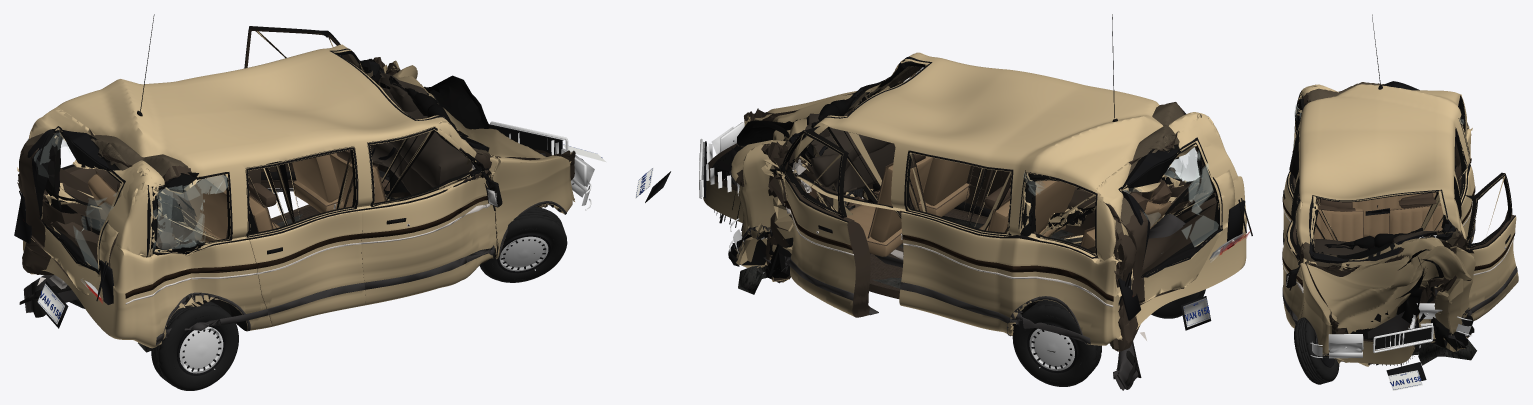
File: minivan86_front_corner_d3_lod1.glb
3 views of the same model, side by side, from view 1: azimuth 30°, elevation 25°; view 2: azimuth 150°, elevation 25°; view 3: azimuth 270°, elevation 25° (orthographic). The views are drawn at different scales.
Visible parts, largest first — view 1: Body, Interior, Door_FR, Door_SR, Liftgate, Wheel_RR_mesh, Glass, Wheel_FR_mesh, Trim, Ends, Glass_Liftgate, Hood (+4 smaller); view 2: Body, Interior, Door_FL, Trim, Liftgate, Wheel_RL_mesh, Ends, Glass_Liftgate, Hood, Glass, Trim_FL, Underbody (+3 smaller); view 3: Body, Hood, Interior, Door_FL, Ends, Glass, Trim, Wheel_FR_mesh, Door_FR, Engine, Trim_FL, Underbody (+3 smaller).
Part boxes in pixels (bbox=[...]): Body: bbox=[17, 44, 575, 348]; Interior: bbox=[88, 72, 472, 249]; Door_FR: bbox=[361, 126, 497, 305]; Door_SR: bbox=[245, 146, 365, 326]; Liftgate: bbox=[19, 107, 158, 295]; Wheel_RR_mesh: bbox=[151, 301, 238, 390]; Glass: bbox=[142, 48, 489, 257]; Wheel_FR_mesh: bbox=[479, 207, 567, 282]; Trim: bbox=[125, 14, 566, 346]; Ends: bbox=[14, 121, 606, 328]; Glass_Liftgate: bbox=[27, 126, 125, 274]; Hood: bbox=[387, 65, 547, 207]; Body: bbox=[703, 52, 1246, 351]; Interior: bbox=[798, 73, 1171, 256]; Door_FL: bbox=[775, 126, 870, 317]; Trim: bbox=[719, 14, 1185, 344]; Liftgate: bbox=[1095, 112, 1235, 305]; Wheel_RL_mesh: bbox=[1012, 300, 1101, 386]; Ends: bbox=[635, 122, 1252, 330]; Glass_Liftgate: bbox=[1118, 137, 1222, 277]; Hood: bbox=[731, 94, 852, 186]; Glass: bbox=[786, 56, 1208, 238]; Trim_FL: bbox=[769, 131, 878, 315]; Underbody: bbox=[738, 195, 1146, 352]; Body: bbox=[1287, 82, 1475, 364]; Hood: bbox=[1306, 238, 1471, 366]; Interior: bbox=[1313, 192, 1443, 255]; Door_FL: bbox=[1464, 172, 1518, 320]; Ends: bbox=[1310, 303, 1472, 390]; Glass: bbox=[1293, 95, 1469, 263]; Trim: bbox=[1283, 14, 1475, 366]; Wheel_FR_mesh: bbox=[1294, 317, 1339, 384]; Door_FR: bbox=[1282, 176, 1304, 328]; Engine: bbox=[1316, 285, 1437, 365]; Trim_FL: bbox=[1465, 174, 1517, 315]; Underbody: bbox=[1321, 338, 1476, 365].
Size of the model in its own units: 4.55 by 2.57 by 2.16.
Materials: 33 (5 with a texture image).
